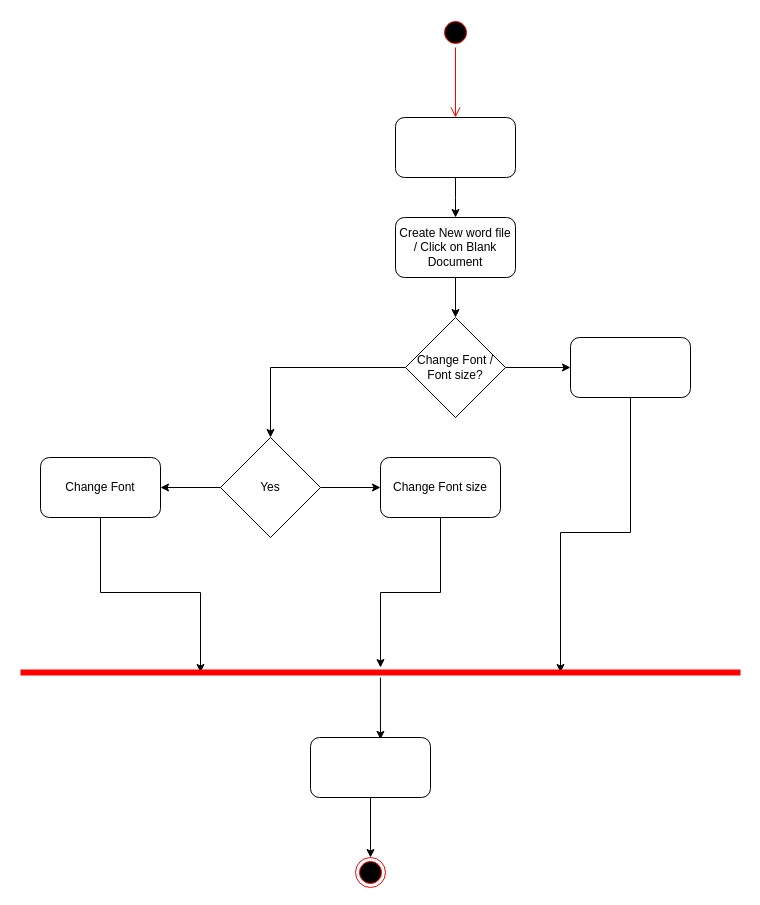
Image size: 760x905. Some labels were removed from this diagram. The box of each missing label's shape, as (x1, y1, x2, y2) in pixels:
No: (570, 336, 690, 398)
Open Microsoft word: (394, 116, 516, 178)
Start Typing: (310, 736, 430, 798)
